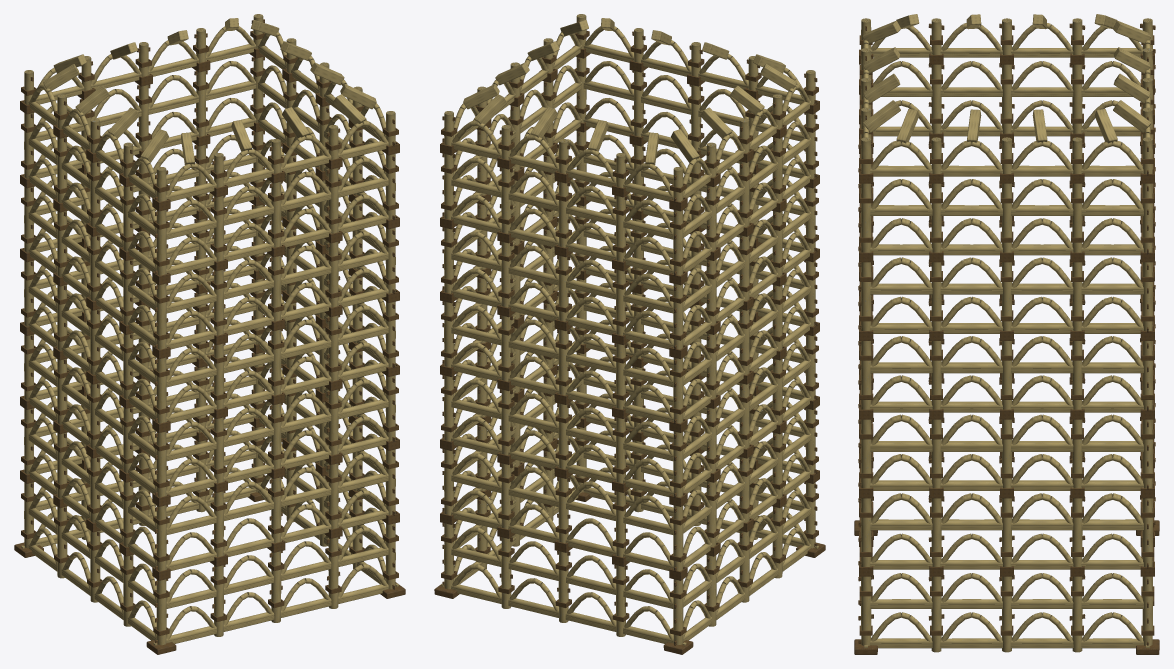
The picture shows the model from 3 angles, left to right: view 1: azimuth 30°, elevation 25°; view 2: azimuth 150°, elevation 25°; view 3: azimuth 270°, elevation 25°; orthographic projection. The views are drawn at different scales.
Parts seen in each view (by area): view 1: Tier 0 side 0 post 3, Tier 0 side 0 post 0, Tier 1 side 0 post 0, Tier 2 side 0 post 0, Tier 5 side 0 post 0, Tier 4 side 0 post 0, Tier 3 side 0 post 0, Tier 0 side 0 post 2, Tier 0 side 0 post 1, Tier 1 side 0 post 3, Tier 2 side 0 post 3, Tier 3 side 0 post 3 (+2 smaller); view 2: Tier 0 side 2 post 1, Tier 0 side 2 post 2, Tier 0 side 3 post 0, Tier 5 side 3 post 0, Tier 2 side 3 post 0, Tier 4 side 3 post 0, Tier 1 side 3 post 0, Tier 3 side 3 post 0, Tier 0 side 2 post 3, Tier 2 side 2 post 1, Tier 5 side 2 post 1, Tier 4 side 2 post 1 (+2 smaller); view 3: Tier 0 side 1 post 1, Tier 0 side 1 post 3, Tier 0 side 1 post 2, Tier 5 side 1 post 1, Tier 5 side 3 post 3, Tier 5 side 1 post 3, Tier 5 side 3 post 1, Tier 2 side 1 post 0, Tier 2 side 1 post 1, Tier 2 side 1 post 3, Tier 5 side 1 post 0, Tier 0 side 1 post 0 (+31 smaller).
Part boxes in pixels (x1,y1,x2,y2): Tier 0 side 0 post 3: (328,537,338,608); Tier 0 side 0 post 0: (156,579,166,645); Tier 1 side 0 post 0: (156,505,166,571); Tier 2 side 0 post 0: (156,431,166,497); Tier 5 side 0 post 0: (156,210,166,275); Tier 4 side 0 post 0: (156,283,166,349); Tier 3 side 0 post 0: (156,357,166,423); Tier 0 side 0 post 2: (271,551,281,622); Tier 0 side 0 post 1: (214,565,223,636); Tier 1 side 0 post 3: (328,463,338,529); Tier 2 side 0 post 3: (328,389,338,455); Tier 3 side 0 post 3: (328,315,338,381); Tier 0 side 2 post 1: (501,537,511,608); Tier 0 side 2 post 2: (558,551,568,622); Tier 0 side 3 post 0: (673,579,683,645); Tier 5 side 3 post 0: (673,210,683,275); Tier 2 side 3 post 0: (673,431,683,497); Tier 4 side 3 post 0: (673,284,683,349); Tier 1 side 3 post 0: (673,505,683,571); Tier 3 side 3 post 0: (673,357,683,423); Tier 0 side 2 post 3: (616,565,625,636); Tier 2 side 2 post 1: (501,389,511,455); Tier 5 side 2 post 1: (501,168,511,233); Tier 4 side 2 post 1: (501,242,511,307); Tier 0 side 1 post 1: (931,576,941,652); Tier 0 side 1 post 3: (1072,576,1082,652); Tier 0 side 1 post 2: (1002,576,1011,652); Tier 5 side 1 post 1: (931,183,941,252); Tier 5 side 3 post 3: (931,64,941,133); Tier 5 side 1 post 3: (1072,183,1082,252); Tier 5 side 3 post 1: (1072,64,1082,133); Tier 2 side 1 post 0: (861,419,871,488); Tier 2 side 1 post 1: (931,419,941,488); Tier 2 side 1 post 3: (1072,419,1082,488); Tier 5 side 1 post 0: (861,183,871,252); Tier 0 side 1 post 0: (861,576,871,645).
Size of the model in its own units: 1.95 by 3.73 by 1.95.
Materials: 2 (2 with a texture image).
